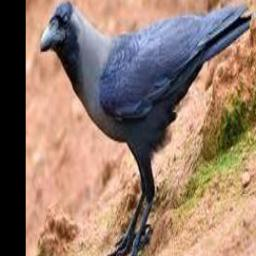Crow: (41, 0, 256, 256)
